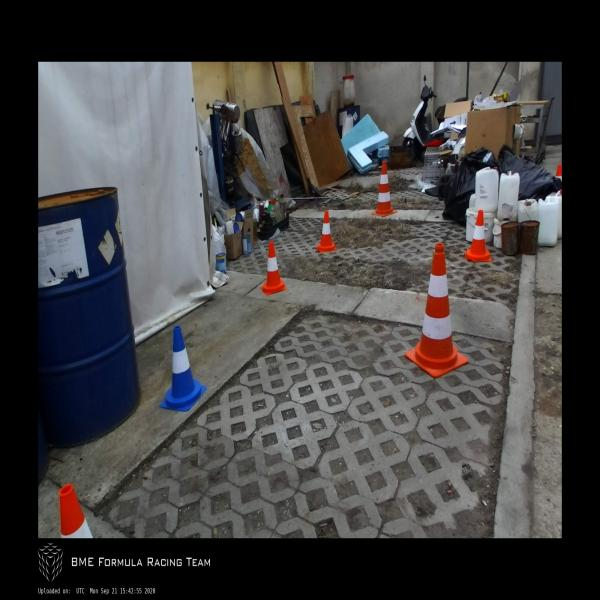blue_cone: (160, 327, 207, 412)
large_orange_cone: (405, 243, 468, 377), (371, 162, 397, 215)
orange_cone: (60, 484, 94, 538), (260, 242, 288, 295), (465, 210, 491, 262), (316, 211, 337, 252), (555, 165, 562, 182)
